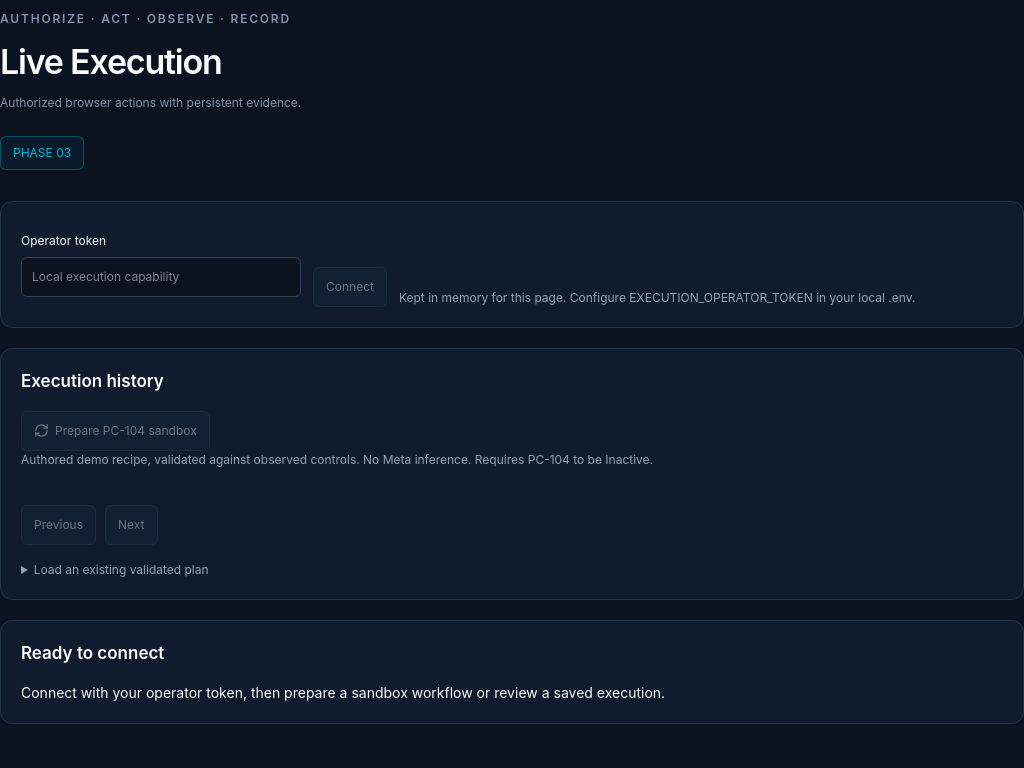
Test case: renders backend errors
Type "bad-token" into the password field labelled "Operator token" at x=161, y=277, box [21,257,301,297]
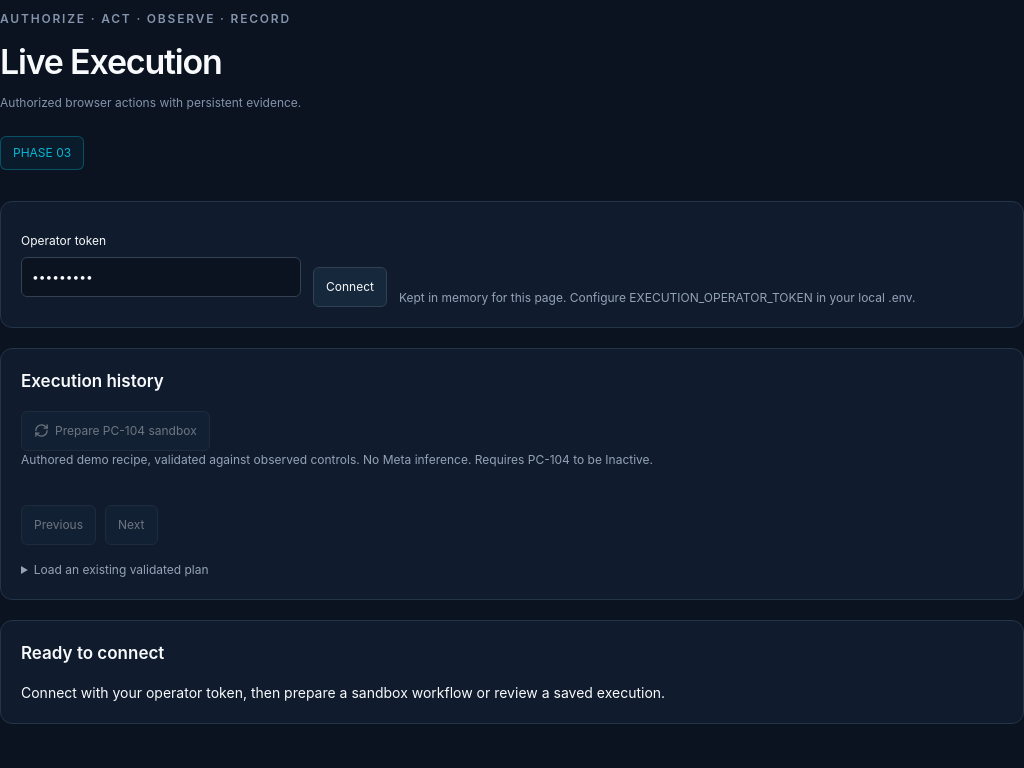
Click the button "Connect" at x=350, y=287, box [313,267,387,307]
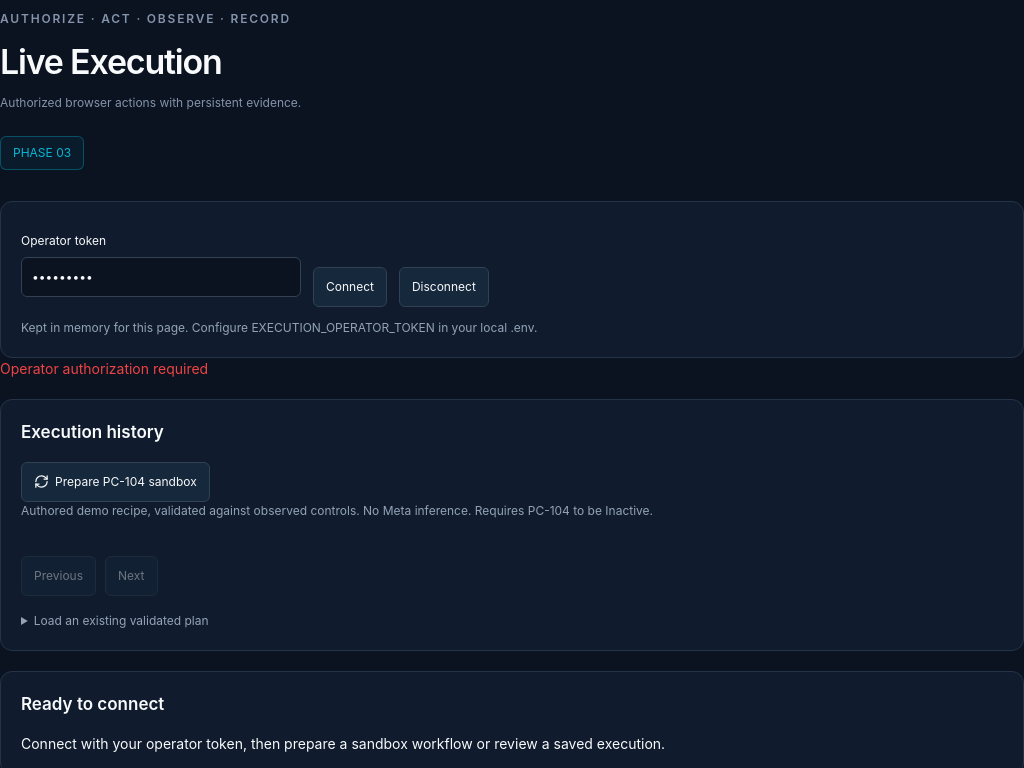
Now the message reads "Operator authorization required", box [0,360,208,377]
